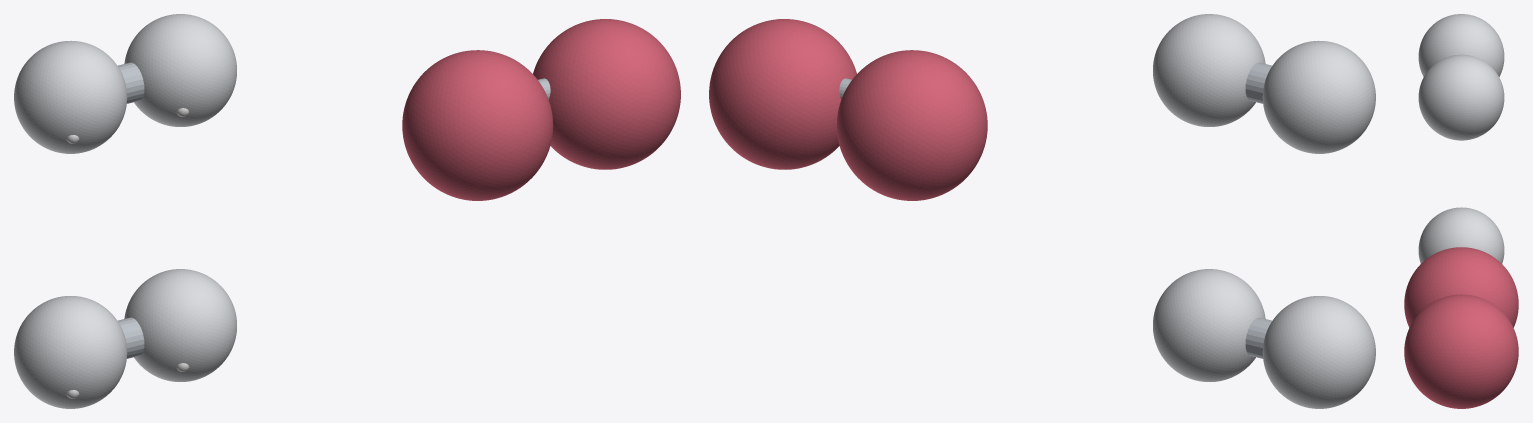
The model's file is 01_ANTES_DA_REACAO.glb.
3 renders of one model, left to right at view 1: azimuth 30°, elevation 25°; view 2: azimuth 150°, elevation 25°; view 3: azimuth 270°, elevation 25°, orthographic. The views are drawn at different scales.
Parts seen in each view (by area): view 1: world; view 2: world; view 3: world.
Boxes of the visible parts, box(x1,y1,x2,y2) form: world: box(14, 14, 680, 408); world: box(709, 14, 1375, 408); world: box(1404, 14, 1518, 408).
Size of the model in its own units: 4.37 by 2.3 by 0.88.
